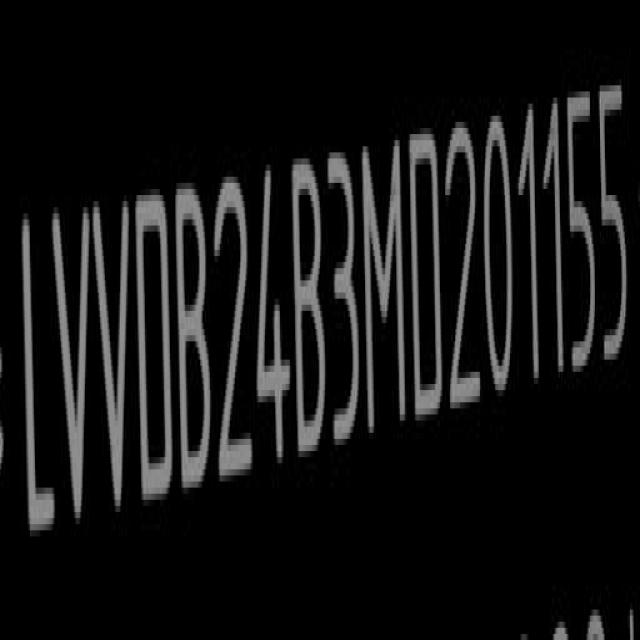0: (483, 115, 515, 408)
1: (523, 98, 545, 400), (547, 86, 566, 391)
2: (215, 174, 253, 497), (448, 120, 482, 423)
3: (326, 149, 362, 457)
4: (256, 166, 292, 478)
5: (601, 67, 631, 371), (568, 80, 596, 379)
B: (177, 179, 214, 502), (296, 150, 329, 464)
D: (134, 185, 173, 515), (411, 127, 445, 434)
L: (18, 205, 55, 550)
M: (362, 132, 410, 446)
V: (50, 202, 93, 538), (94, 191, 136, 529)
